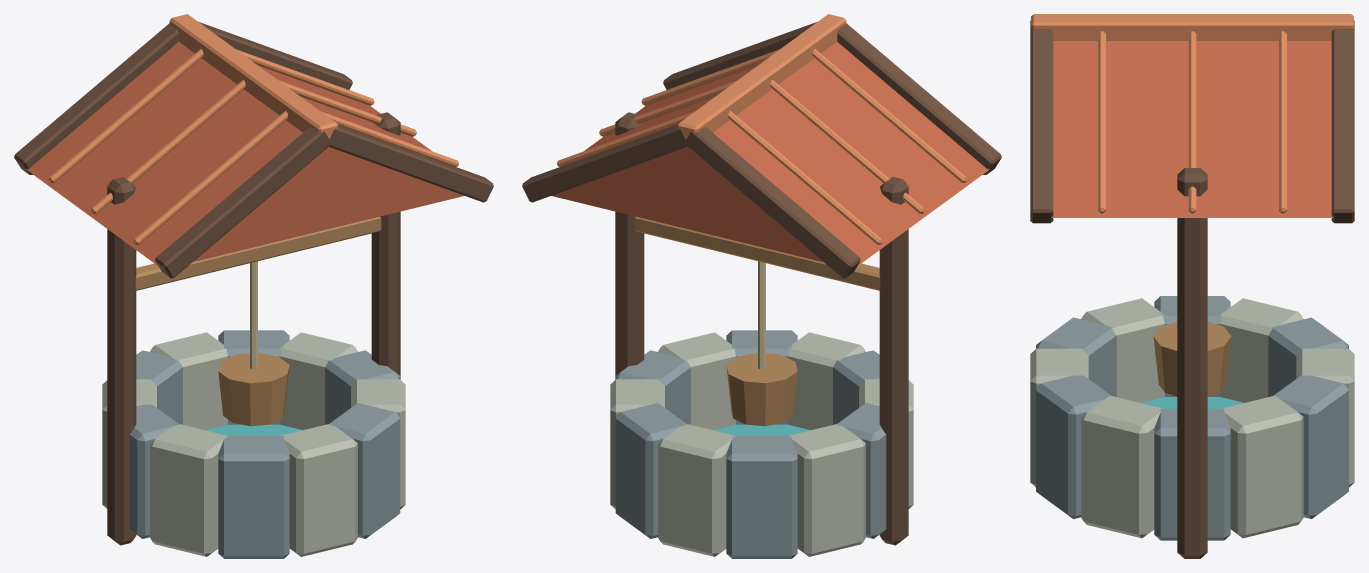
Rendered from well.glb.
3 views of the same model, side by side, from view 1: azimuth 30°, elevation 25°; view 2: azimuth 150°, elevation 25°; view 3: azimuth 270°, elevation 25° (orthographic). The views are drawn at different scales.
Parts seen in each view (by area): view 1: well-roof, well-post, well-stone.008, well-stone.007, well-stone.009, roof-edge.008, well-stone.010, roof-ridge.002, well-post.001, bucket, roof-edge.010, well-stone.001 (+18 smaller); view 2: well-roof, well-post, well-stone.004, well-stone.003, well-stone.005, roof-edge.010, well-stone.002, roof-ridge.002, well-post.001, bucket, roof-edge.008, well-stone.011 (+18 smaller); view 3: well-roof, well-post.001, well-stone.001, well-stone.011, roof-ridge.002, well-stone.002, well-stone.010, well-stone, well-stone.005, well-stone.007, roof-edge.009, roof-edge.011 (+10 smaller).
Part boxes in pixels (x1,y1,x2,y2): well-roof: [26, 42, 464, 265]; well-post: [107, 177, 136, 545]; well-stone.008: [218, 435, 289, 558]; well-stone.007: [150, 424, 227, 556]; well-stone.009: [282, 424, 357, 556]; roof-edge.008: [155, 126, 331, 278]; well-stone.010: [328, 403, 400, 538]; roof-ridge.002: [169, 14, 338, 138]; well-post.001: [371, 112, 400, 379]; bucket: [218, 352, 289, 426]; roof-edge.010: [14, 23, 178, 174]; well-stone.001: [280, 332, 357, 430]; well-roof: [551, 42, 989, 265]; well-post: [879, 177, 908, 545]; well-stone.004: [726, 435, 797, 558]; well-stone.003: [658, 424, 735, 556]; well-stone.005: [789, 424, 865, 556]; roof-edge.010: [684, 126, 860, 278]; well-stone.002: [615, 403, 687, 538]; roof-ridge.002: [677, 14, 846, 138]; well-post.001: [615, 112, 644, 379]; bucket: [726, 352, 797, 426]; roof-edge.008: [837, 23, 1001, 174]; well-stone.011: [658, 332, 735, 430]; well-roof: [1051, 41, 1333, 217]; well-post.001: [1177, 168, 1207, 558]; well-stone.001: [1222, 395, 1303, 538]; well-stone.011: [1081, 395, 1162, 538]; roof-ridge.002: [1031, 14, 1353, 40]; well-stone.002: [1273, 375, 1348, 518]; well-stone.010: [1036, 375, 1111, 518]; well-stone: [1154, 408, 1230, 540]; well-stone.005: [1220, 298, 1303, 402]; well-stone.007: [1081, 298, 1164, 402]; roof-edge.009: [1030, 26, 1053, 223]; roof-edge.011: [1331, 26, 1354, 223].
Size of the model in its own units: 2.3 by 2.92 by 1.83.
